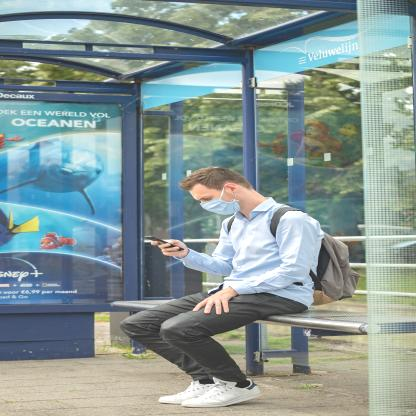dress: (128, 282, 309, 388), (174, 198, 332, 310), (199, 187, 243, 217)
jean: (110, 170, 350, 416)
